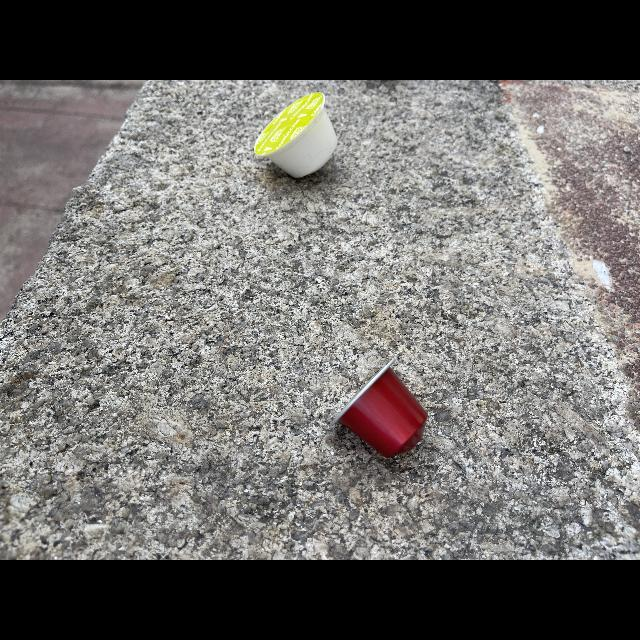intact_capsule: (327, 352, 437, 468), (250, 88, 342, 186)
